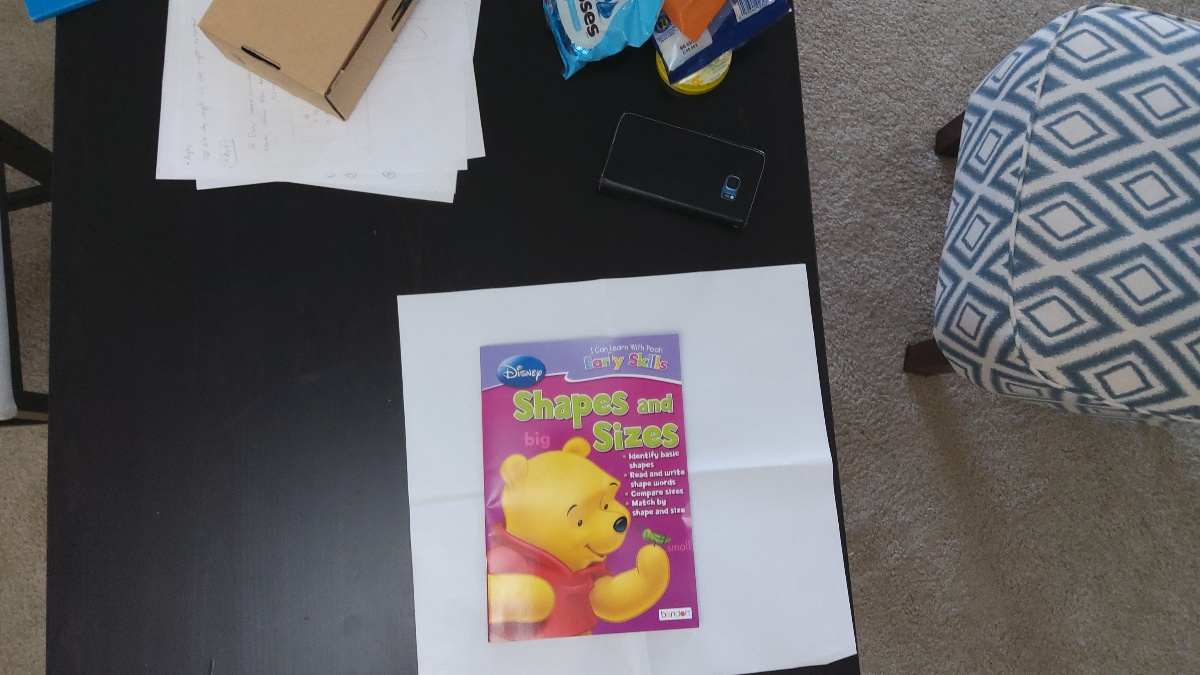book: (483, 349, 695, 632)
